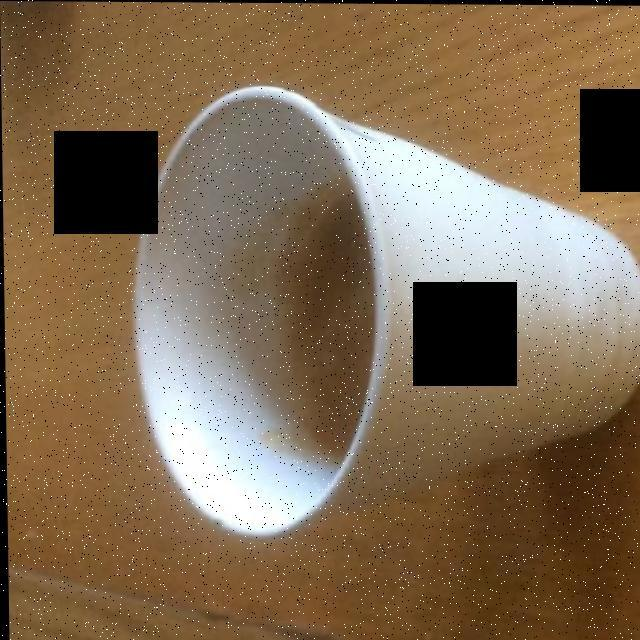espresso: (249, 145, 375, 470)
